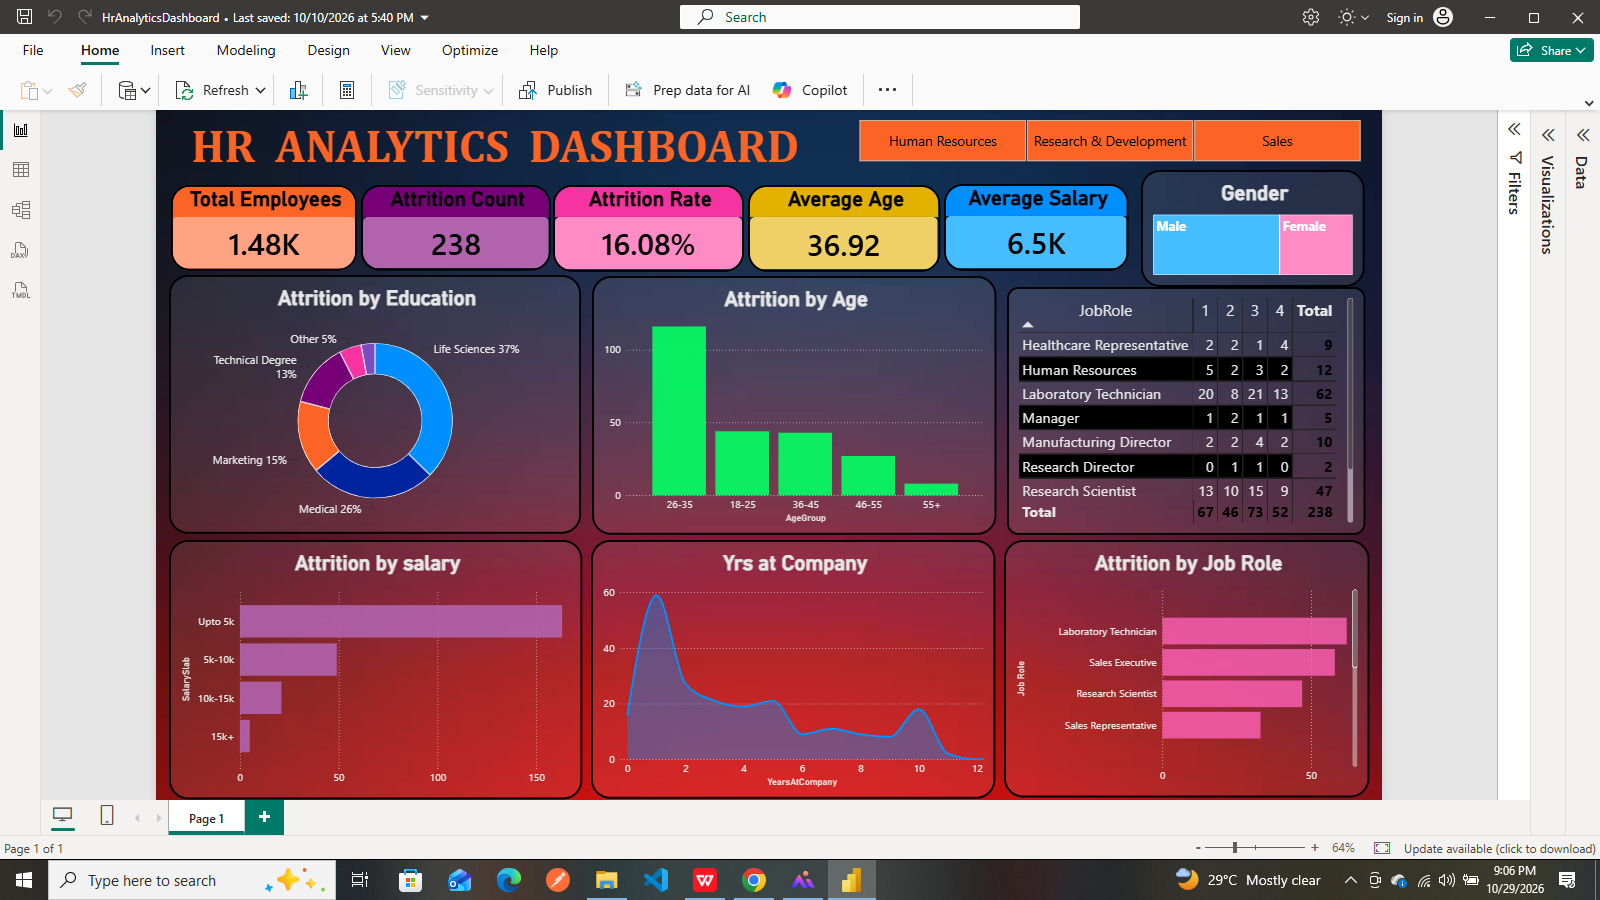

Layout of this report page (visuals, bound fields, positions):
{"tool":"powerbi","page":{"name":"Page 1","canvas":[1920,1080],"ordinal":0},"visuals":[{"type":"cardVisual","title":"Attrition Count","fields":{"Data":["Sum(HR_Analytics.AttritionCount)"]},"box":[320.7,118,297,133.8],"z":0},{"type":"cardVisual","title":"Attrition Rate","fields":{"Data":["HR_Analytics.AttritionRate"]},"box":[621.6,118,299,135.7],"z":1000},{"type":"cardVisual","title":"Average Age","fields":{"Data":["Avg(HR_Analytics.Age)"]},"box":[926.6,118,301,135.7],"z":2000},{"type":"cardVisual","title":"Average Salary","fields":{"Data":["Avg(HR_Analytics.MonthlyIncome)"]},"box":[1233.4,116.1,289.2,135.7],"z":3000},{"type":"donutChart","title":"Attrition by Education","fields":{"Category":["HR_Analytics.EducationField"],"Y":["Sum(HR_Analytics.AttritionCount)"]},"box":[19.7,257.7,645.2,405.2],"z":4000},{"type":"columnChart","title":"Attrition by Age","fields":{"Category":["HR_Analytics.AgeGroup"],"Y":["Sum(HR_Analytics.AttritionCount)"]},"box":[682.6,259.7,633.4,405.2],"z":5000},{"type":"pivotTable","fields":{"Columns":["HR_Analytics.JobSatisfaction"],"Rows":["HR_Analytics.JobRole"],"Values":["Sum(HR_Analytics.AttritionCount)"]},"box":[1331.8,277.4,560.7,387.5],"z":6000},{"type":"barChart","title":"Attrition by salary","fields":{"Category":["HR_Analytics.SalarySlab"],"Y":["Sum(HR_Analytics.AttritionCount)"]},"box":[20.1,673.2,647.3,405.6],"z":7000},{"type":"treemap","title":"Gender","fields":{"Group":["HR_Analytics.Gender"],"Values":["Sum(HR_Analytics.AttritionCount)"]},"box":[1542.3,94.4,350.2,183],"z":8000},{"type":"areaChart","title":"Yrs at Company","fields":{"Category":["HR_Analytics.YearsAtCompany"],"Y":["Sum(HR_Analytics.AttritionCount)"]},"box":[680.7,672.8,633.4,405.2],"z":9000},{"type":"barChart","title":"Attrition by Job Role","fields":{"Category":["HR_Analytics.JobRole"],"Y":["Sum(HR_Analytics.AttritionCount)"]},"box":[1327.9,672.8,572.5,403.3],"z":10000},{"type":"cardVisual","title":"Total Employees","fields":{"Data":["CountNonNull(HR_Analytics.EmpID)"]},"box":[23.6,118,291.1,133.8],"z":11000},{"type":"slicer","title":"Department","fields":{"Values":["HR_Analytics.Department"]},"box":[1064.3,0,855.7,98],"z":12000},{"type":"textbox","box":[23.6,13.8,1005.2,102.3],"z":13000}]}

Visuals, with their boxes on the page's 1920x1080 design canvas (x1, y1, x2, y2). These are canvas units, not pixel positions in the 1600x900 screenshot, which may show the page scaled, cropped or inside an application window:
"Attrition Count" cardVisual: left=321, top=118, right=618, bottom=252
"Attrition Rate" cardVisual: left=622, top=118, right=921, bottom=254
"Average Age" cardVisual: left=927, top=118, right=1228, bottom=254
"Average Salary" cardVisual: left=1233, top=116, right=1523, bottom=252
"Attrition by Education" donutChart: left=20, top=258, right=665, bottom=663
"Attrition by Age" columnChart: left=683, top=260, right=1316, bottom=665
pivotTable - HR_Analytics.JobSatisfaction x HR_Analytics.JobRole: left=1332, top=277, right=1892, bottom=665
"Attrition by salary" barChart: left=20, top=673, right=667, bottom=1079
"Gender" treemap: left=1542, top=94, right=1892, bottom=277
"Yrs at Company" areaChart: left=681, top=673, right=1314, bottom=1078
"Attrition by Job Role" barChart: left=1328, top=673, right=1900, bottom=1076
"Total Employees" cardVisual: left=24, top=118, right=315, bottom=252
"Department" slicer: left=1064, top=0, right=1920, bottom=98
textbox: left=24, top=14, right=1029, bottom=116
